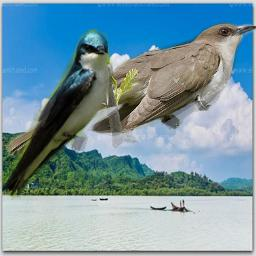Cuckoo: (4, 21, 256, 156)
Swallow: (0, 29, 115, 203)
